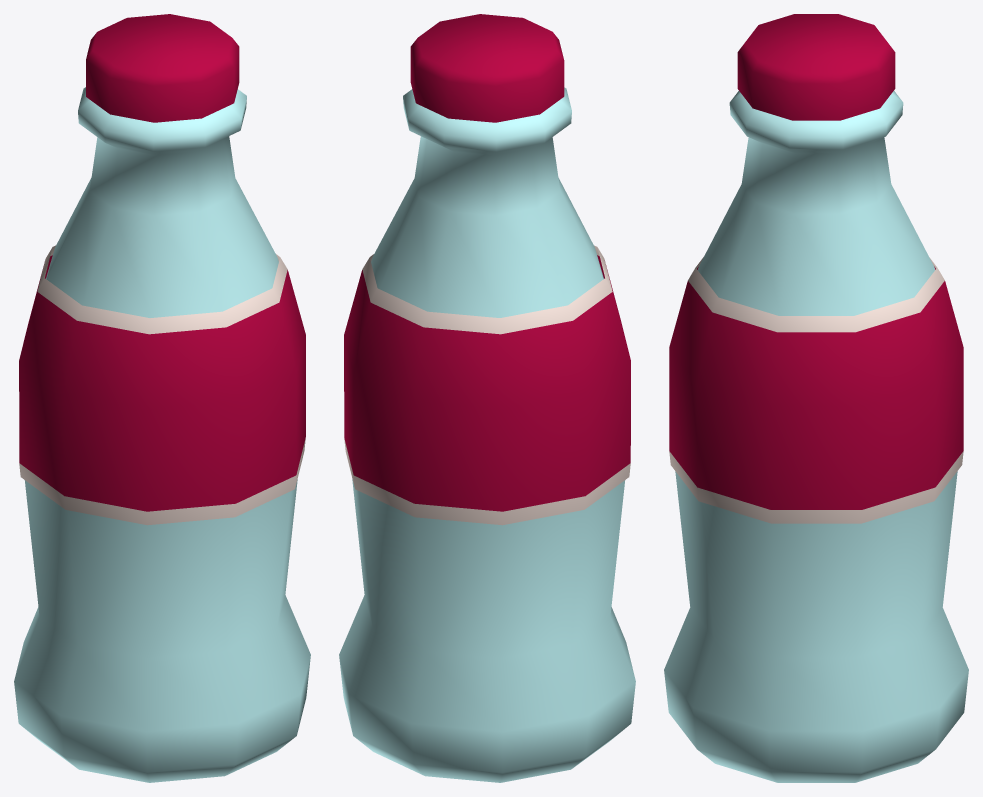
File: Cola2_geo.fbx
3 views of the same model, side by side, from view 1: azimuth 30°, elevation 25°; view 2: azimuth 150°, elevation 25°; view 3: azimuth 270°, elevation 25° (orthographic).
Visible parts, largest first — view 1: Cola2_geo; view 2: Cola2_geo; view 3: Cola2_geo.
Boxes of the visible parts, x1,y1,x2,y2 form: Cola2_geo: [14, 14, 310, 782]; Cola2_geo: [339, 14, 635, 782]; Cola2_geo: [664, 14, 968, 782].
Size of the model in its own units: 0.2538 by 0.2669 by 0.6661.
